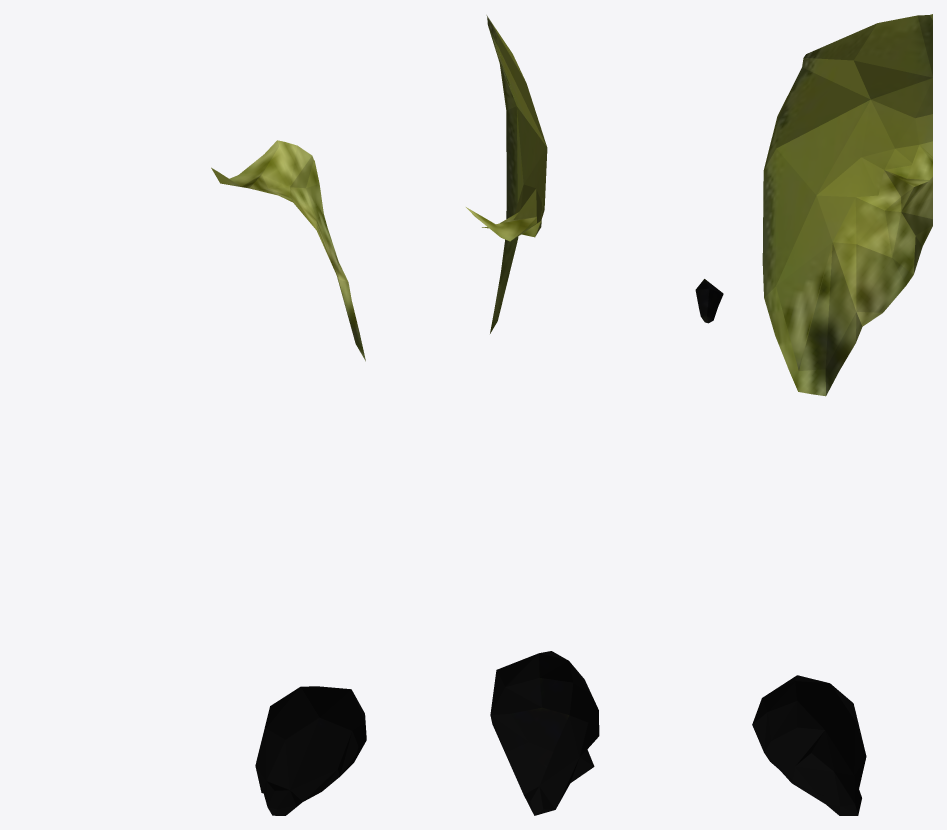
3 views of the same model, side by side, from view 1: azimuth 30°, elevation 25°; view 2: azimuth 150°, elevation 25°; view 3: azimuth 270°, elevation 25° (orthographic). The views are drawn at different scales.
Size of the model in its own units: 1.91 by 4.67 by 0.9576.
1 material, 1 textured.
